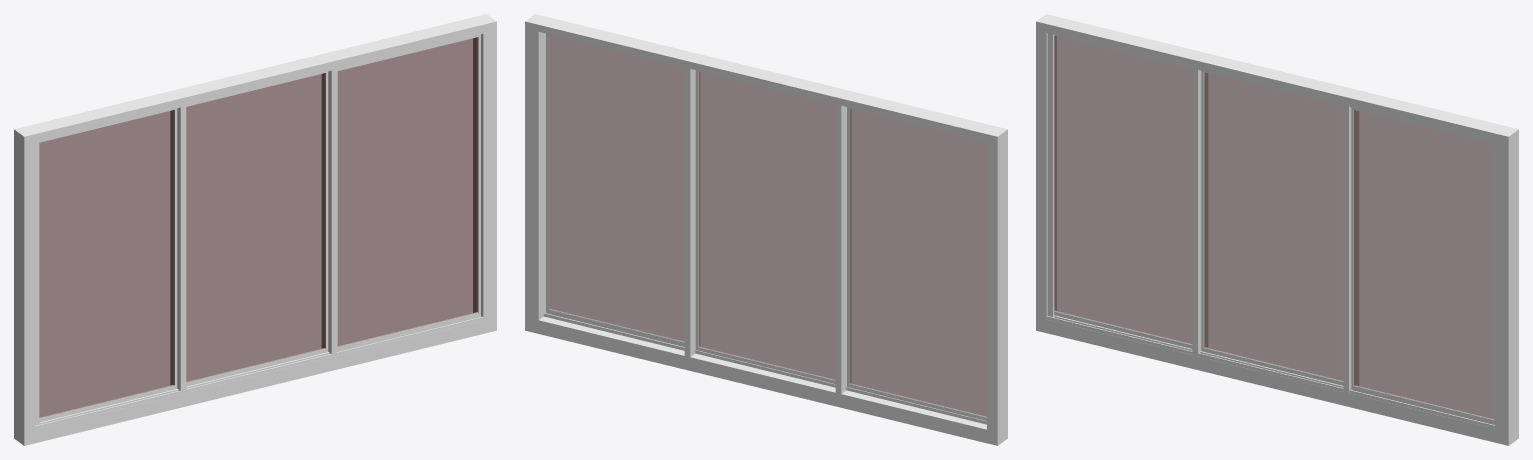
The model's file is Wall With Windows Set 2.FBX.
The picture shows the model from 3 angles, left to right: view 1: azimuth 30°, elevation 25°; view 2: azimuth 150°, elevation 25°; view 3: azimuth 330°, elevation 25°; orthographic projection.
Visible parts, largest first — view 1: wall with windows set 2; view 2: wall with windows set 2; view 3: wall with windows set 2.
Boxes of the visible parts, <box> form: wall with windows set 2: <box>14,14,496,445</box>; wall with windows set 2: <box>525,14,1007,445</box>; wall with windows set 2: <box>1036,14,1518,445</box>.
Bounding box in the file's own units: 400 × 250 × 15.
